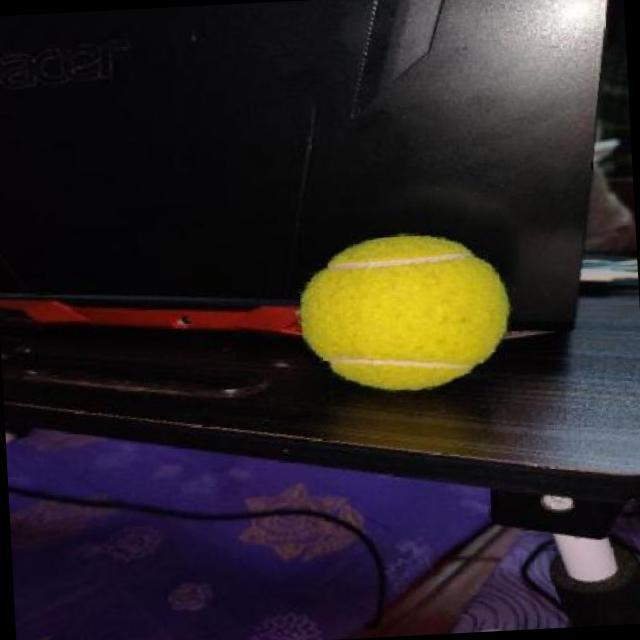-: (285, 219, 526, 408)
